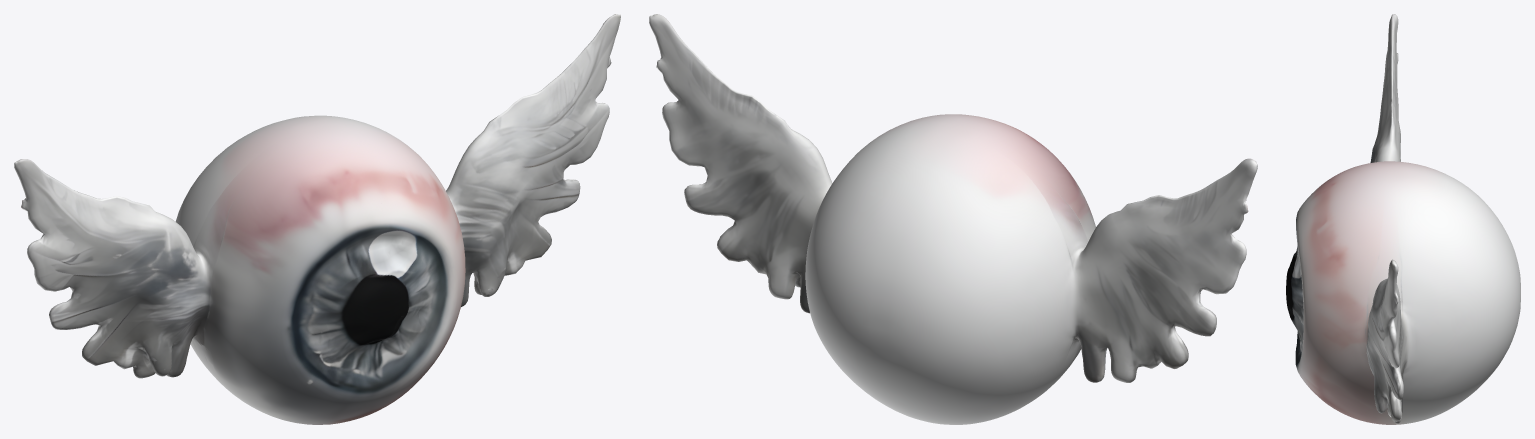
File: eye_with_wings.glb
3 renders of one model, left to right at view 1: azimuth 30°, elevation 25°; view 2: azimuth 150°, elevation 25°; view 3: azimuth 270°, elevation 25°, orthographic. The views are drawn at different scales.
Visible parts, largest first — view 1: model_1; view 2: model_1; view 3: model_1.
Boxes of the visible parts, x1,y1,x2,y2 form: model_1: (14, 14, 620, 424); model_1: (649, 14, 1257, 424); model_1: (1286, 14, 1520, 424).
Bounding box in the file's own units: 1.65 × 0.8428 × 0.6491.
1 material, 1 textured.
